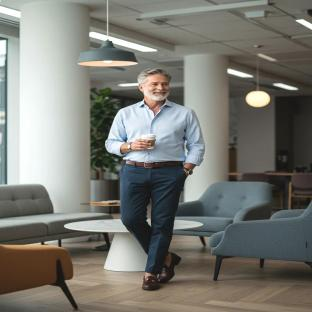Human: (106, 68, 204, 290)
